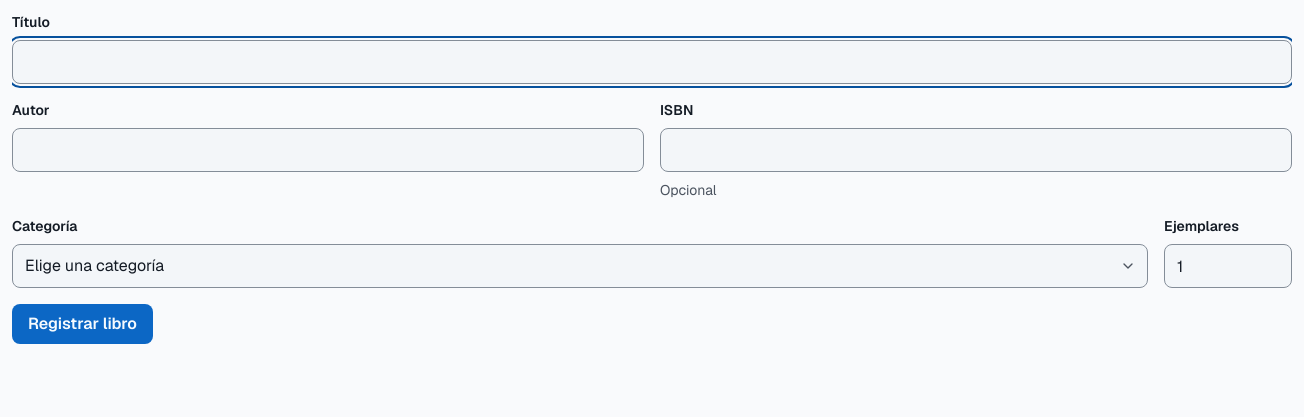
Test: BookIntakeForm › shows inline validation and does not submit incomplete intake
Click the button "Registrar libro". click: click(82, 324)
box: [12,304,153,344]
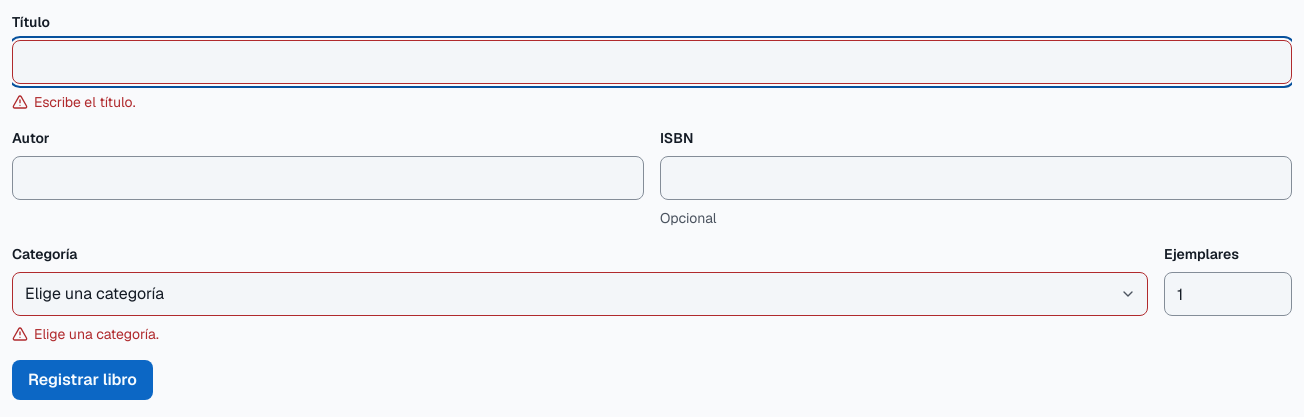
Expected: the text "Escribe el título." is shown, [12,93,136,111]
Expected: the text "Elige una categoría." is shown, [12,325,159,343]
